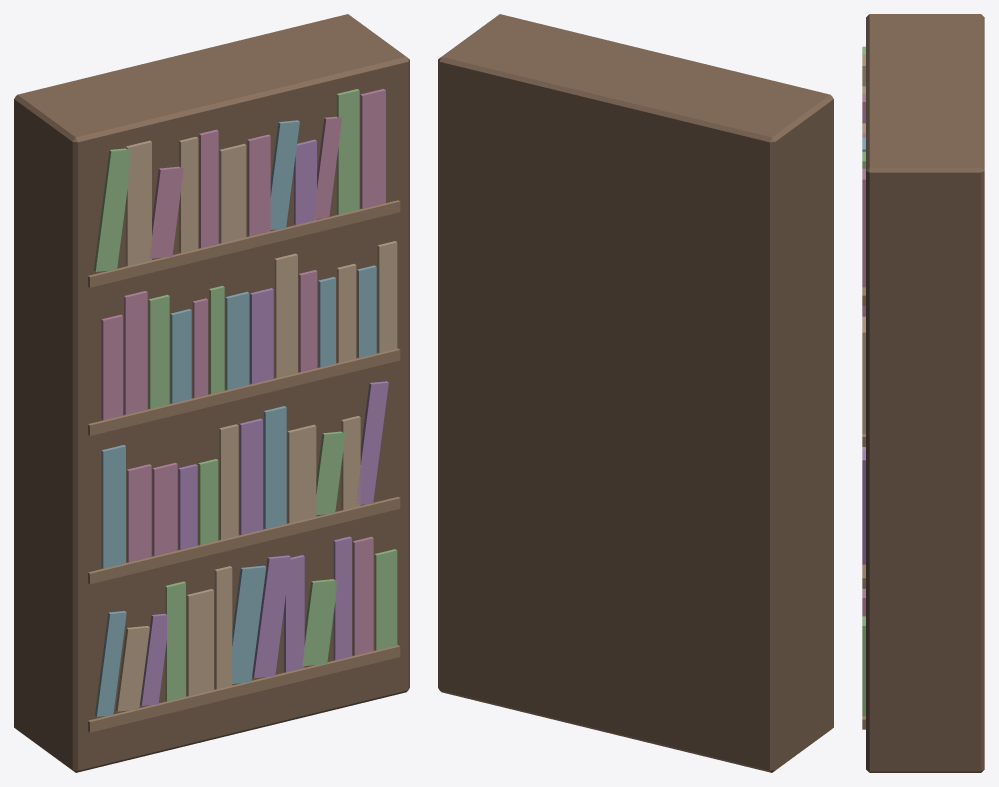
Rendered from Bookshelf.fbx.
3 views of the same model, side by side, from view 1: azimuth 30°, elevation 25°; view 2: azimuth 150°, elevation 25°; view 3: azimuth 270°, elevation 25° (orthographic). The views are drawn at different scales.
Visible parts, largest first — view 1: Prop_Bookshelf; view 2: Prop_Bookshelf; view 3: Prop_Bookshelf.
Boxes of the visible parts, left/top/right/bottom form: Prop_Bookshelf: left=14, top=14, right=409, bottom=772; Prop_Bookshelf: left=438, top=14, right=833, bottom=772; Prop_Bookshelf: left=862, top=14, right=984, bottom=772.
Bounding box in the file's own units: 1 × 1.8 × 0.33.
